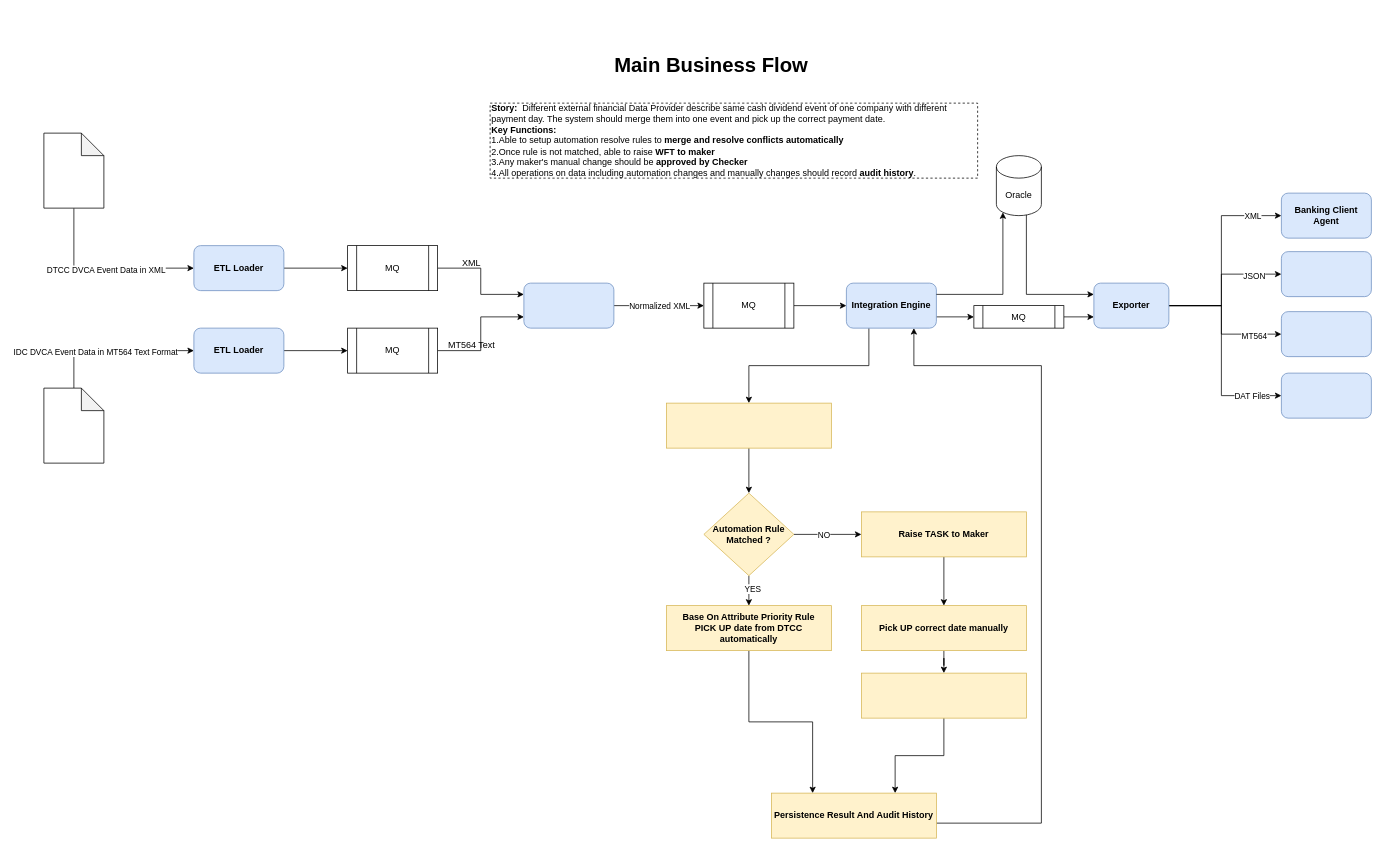
Some shapes in this 1385 by 851 pixel diagram are drawn without their labels. Here are the shapes that lost their labels. From the top down, the centre of each, then its label:
(73,170): DTCC Feed
(1326,274): Custodian Client Agent
(568,305): Transformer Service
(1326,334): Funds Client Agent
(1326,395): Security Client Agent
(73,425): IDC Feed
(748,425): Data Conflict DTCC Feed: Payment Day is Sep12 IDC Feed: Payment Day is Sep15
(943,695): Checker Approved
